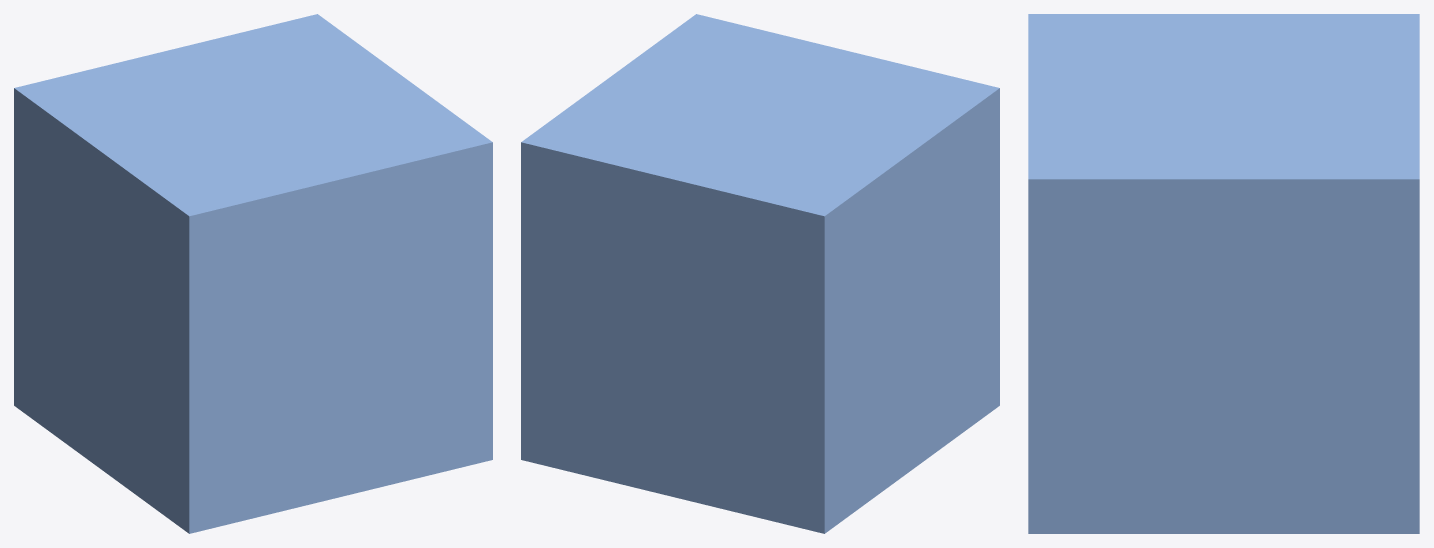
Rendered from 107_bluebell_petal_block.glb.
The picture shows the model from 3 angles, left to right: view 1: azimuth 30°, elevation 25°; view 2: azimuth 150°, elevation 25°; view 3: azimuth 270°, elevation 25°; orthographic projection. The views are drawn at different scales.
Visible parts, largest first — view 1: Core; view 2: Core; view 3: Core.
Boxes of the visible parts, x1=… form: Core: x1=14, y1=14, x2=492, y2=533; Core: x1=521, y1=14, x2=999, y2=533; Core: x1=1028, y1=14, x2=1419, y2=533.
Bounding box in the file's own units: 1 × 1 × 1.
